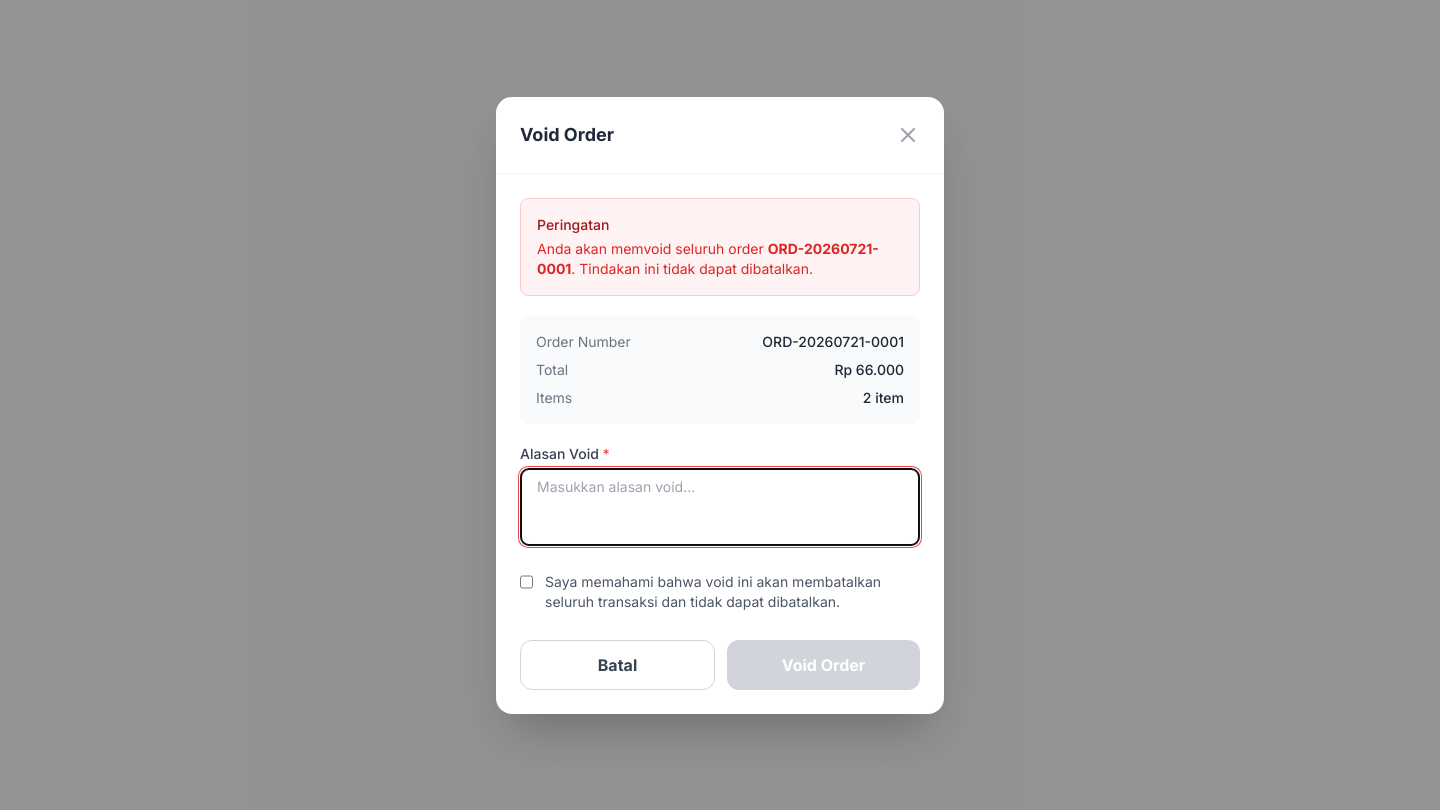
it: VoidOrderModal › displays error state when API fails
The image size is (1440, 810).
Type "Test" into the text box with placeholder "Masukkan alasan void..." at (720, 506), box 520,468 -> 920,546
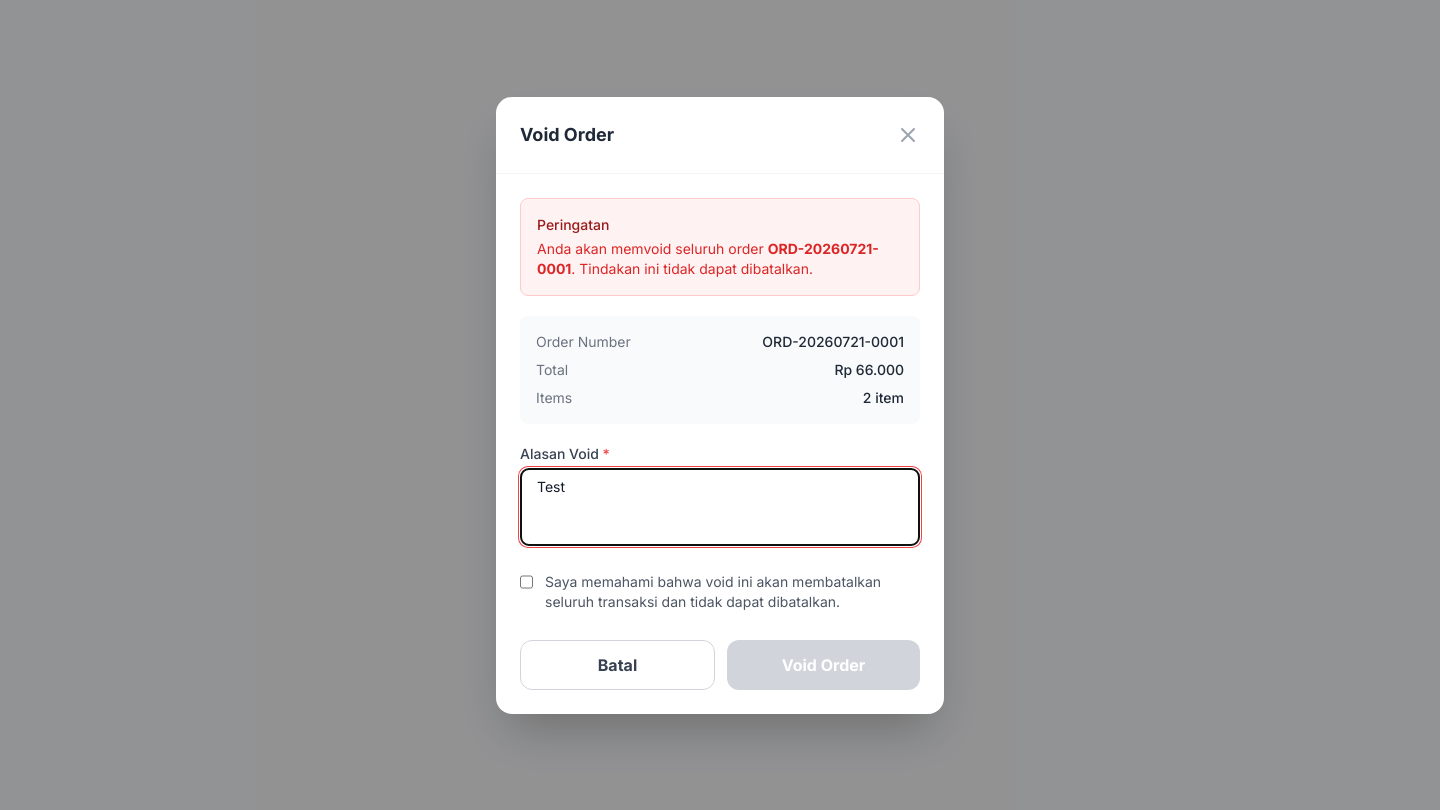
Click the checkbox at (526, 582), box 520,574 -> 533,590
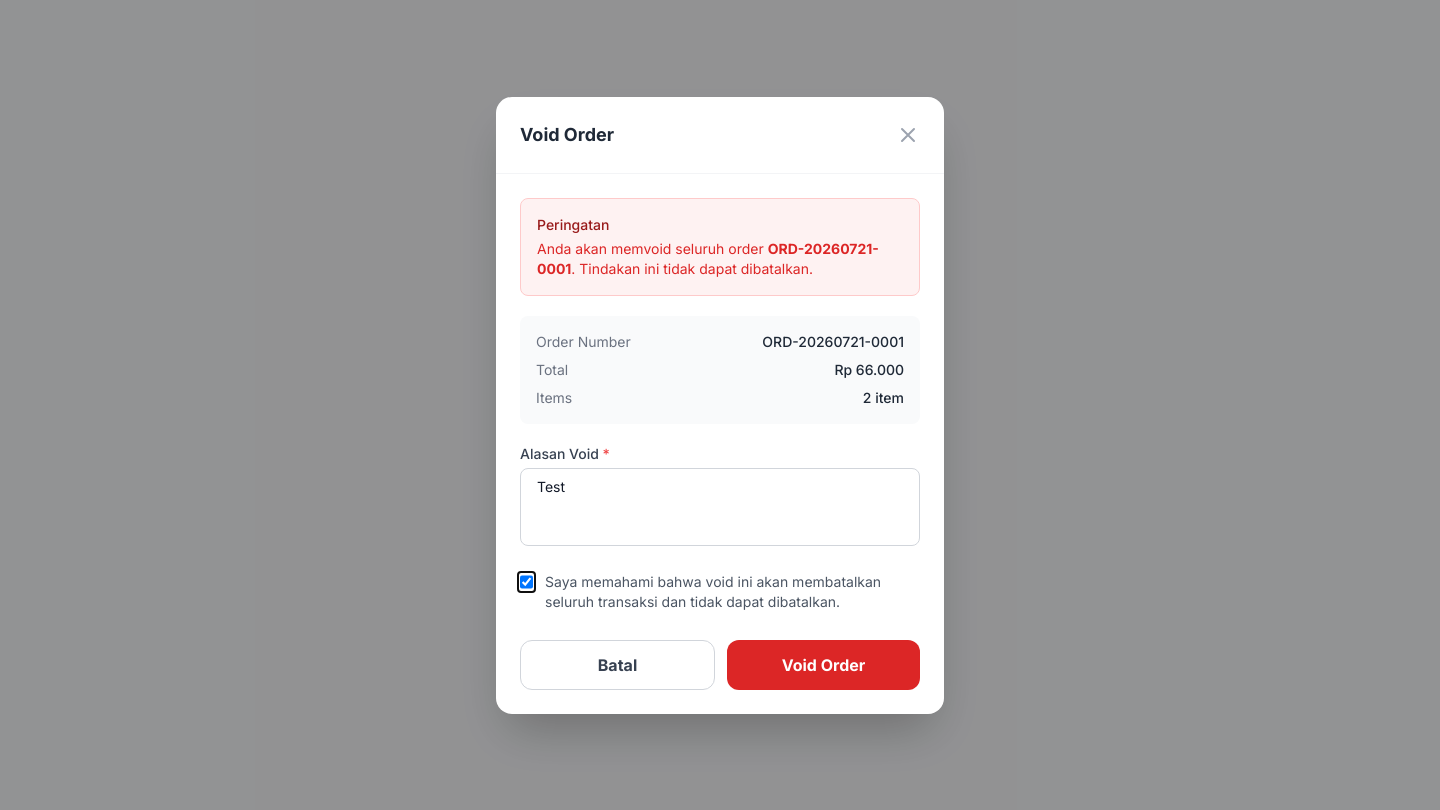
Click the button "Void Order" at (824, 664), box 727,640 -> 920,690
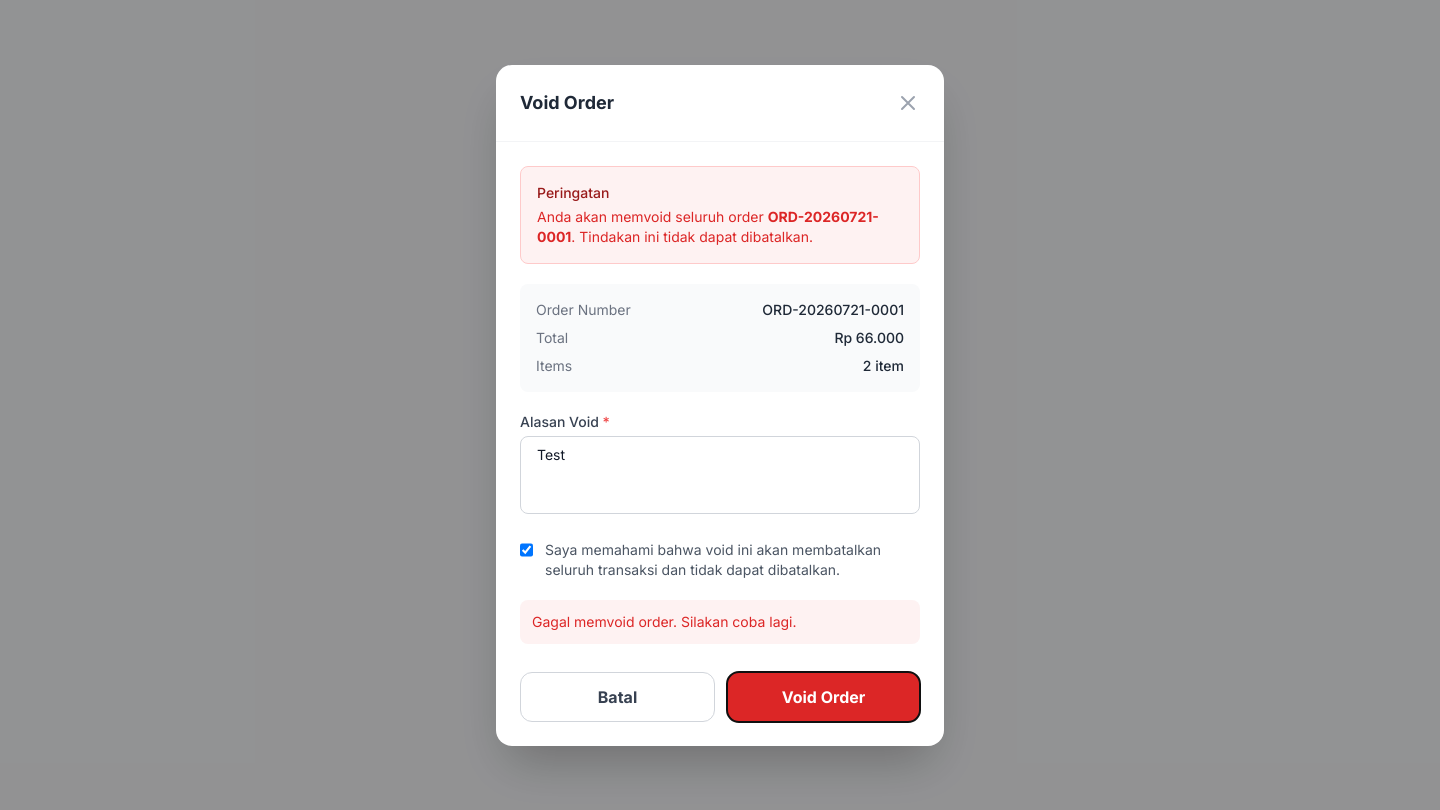
Expected: the text "Gagal memvoid order. Silakan coba lagi." is shown, 532,612 -> 796,630
